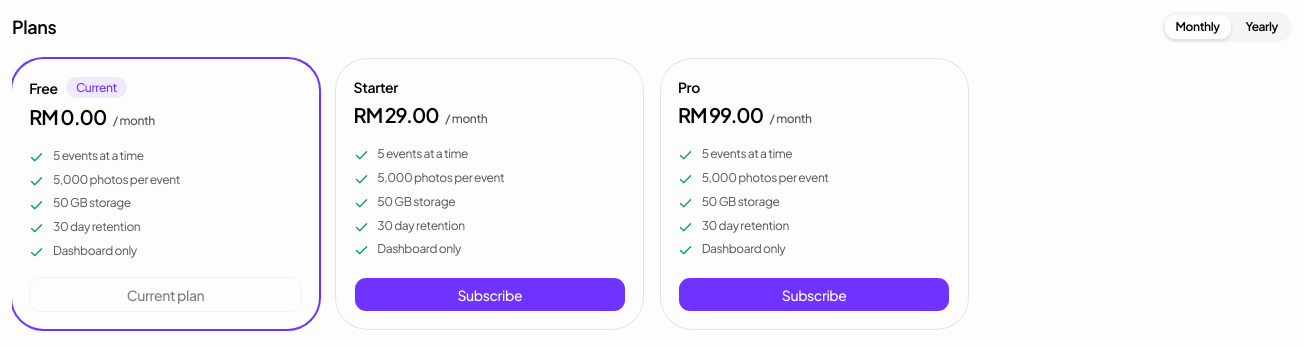
PlanGrid › switches plan prices with the Monthly/Yearly control
The image size is (1304, 348).
Expected: the text "RM 29.00" is shown, [354,101,439,129]
What coordinates should you click on to do the following:
click the button "Yearly"
I would click on:
 (1262, 27)
Its box is [1234,14,1290,40].
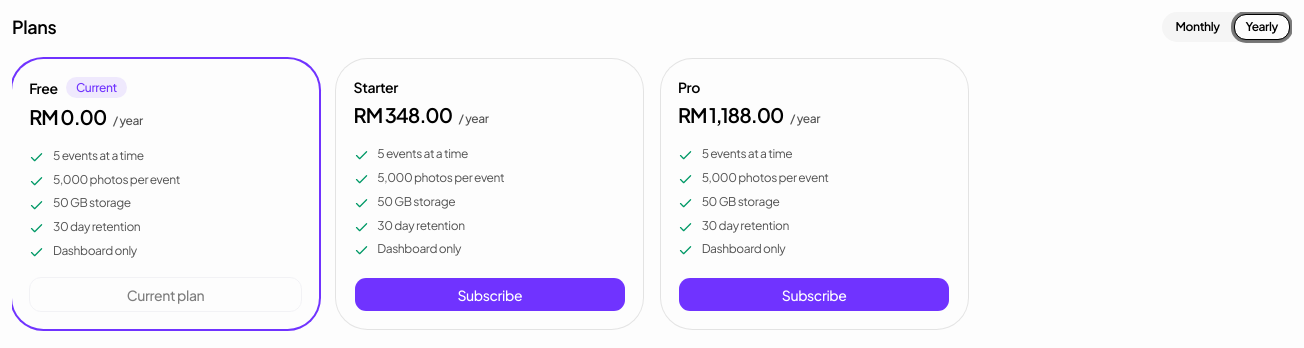
Now the text "RM 348.00" is shown, box [354,101,452,129]
